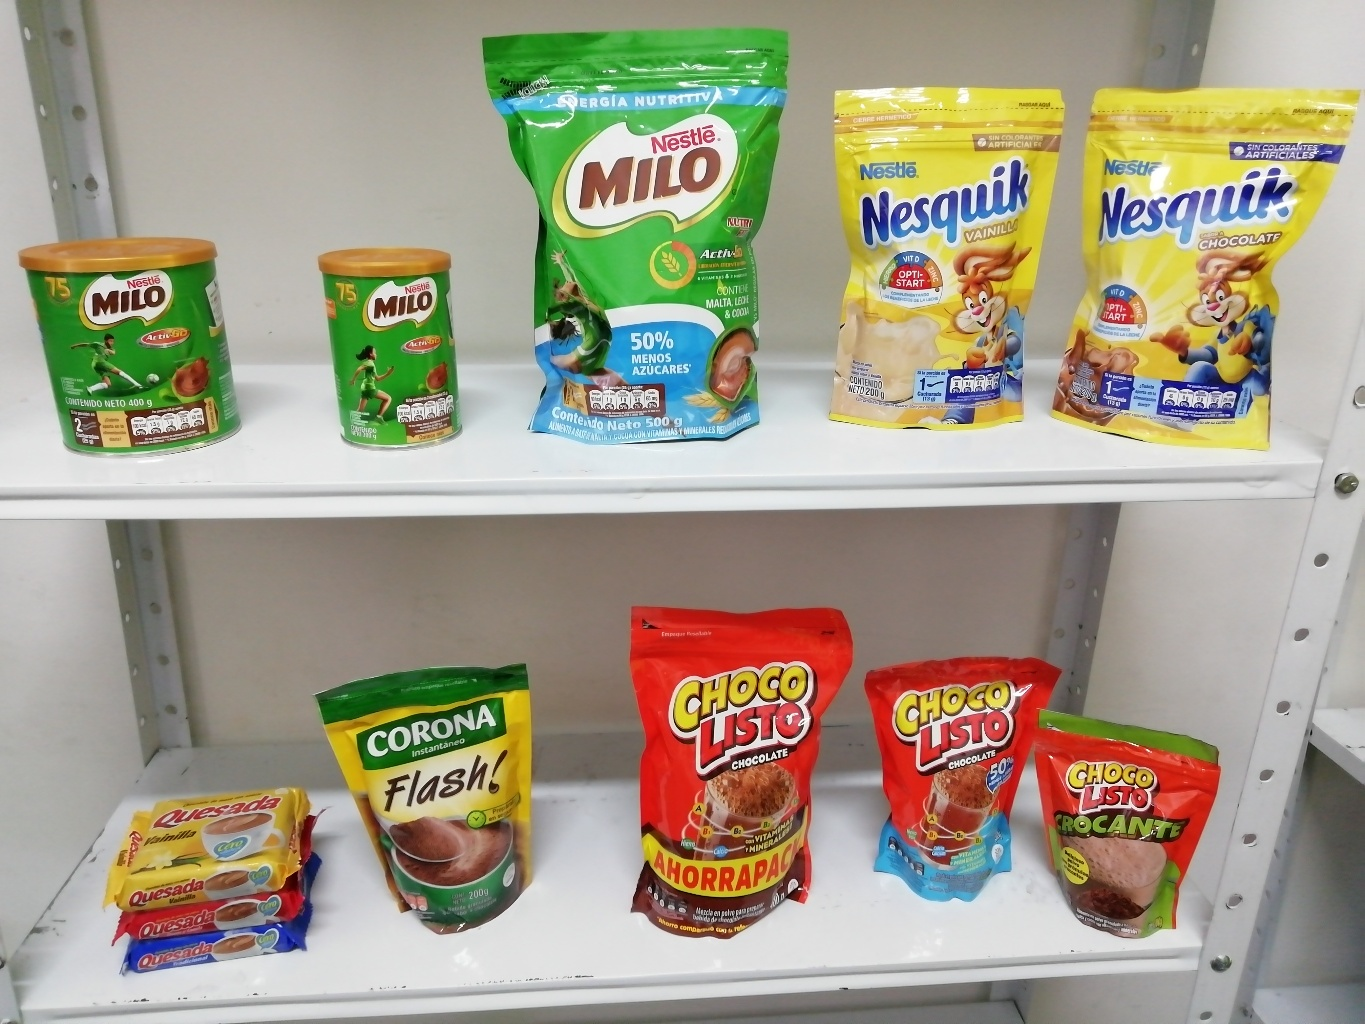COL0170102DYP10000: (1027, 701, 1231, 942)
COL0170103DYP36000: (611, 592, 867, 944)
COL0170104DYP20000: (859, 649, 1064, 911)
COL0170203LAT20000: (311, 246, 481, 461)
COL0170203LAT40000: (8, 226, 254, 469)
COL0170205DYP50000: (469, 16, 792, 452)
COL0170303DYP20000: (1062, 62, 1357, 461)
COL0170306DYP20000: (814, 74, 1076, 436)
